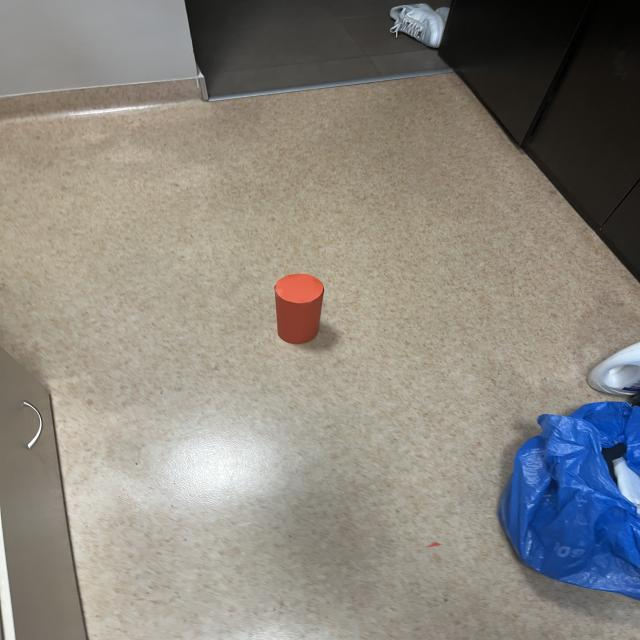przeszkoda: (274, 273, 324, 344)
